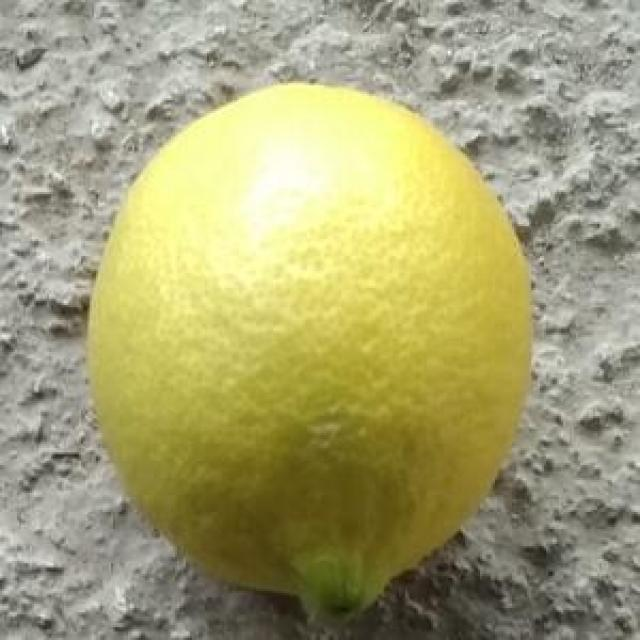lemon: (82, 80, 536, 625)
